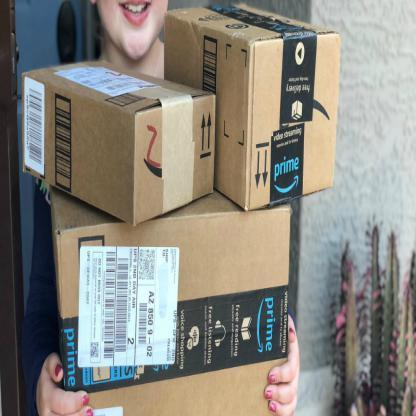package: (48, 188, 292, 416), (163, 6, 335, 212), (21, 61, 216, 227)
